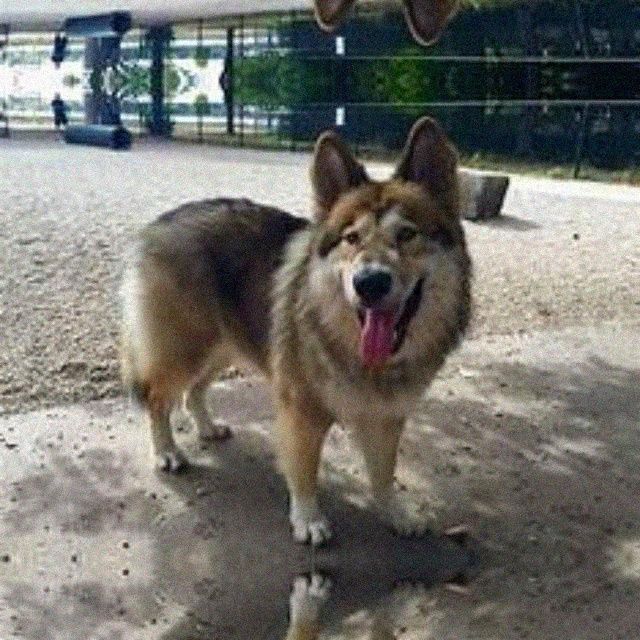dog: (132, 144, 498, 516), (132, 601, 497, 640), (132, 0, 497, 16)
